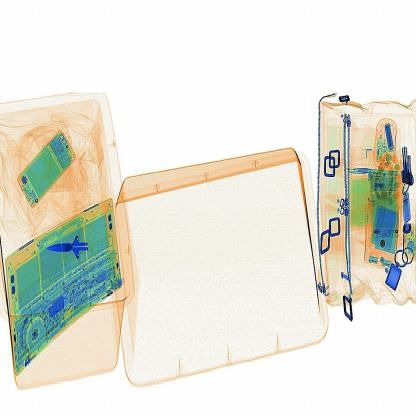gun: (47, 219, 108, 275)
